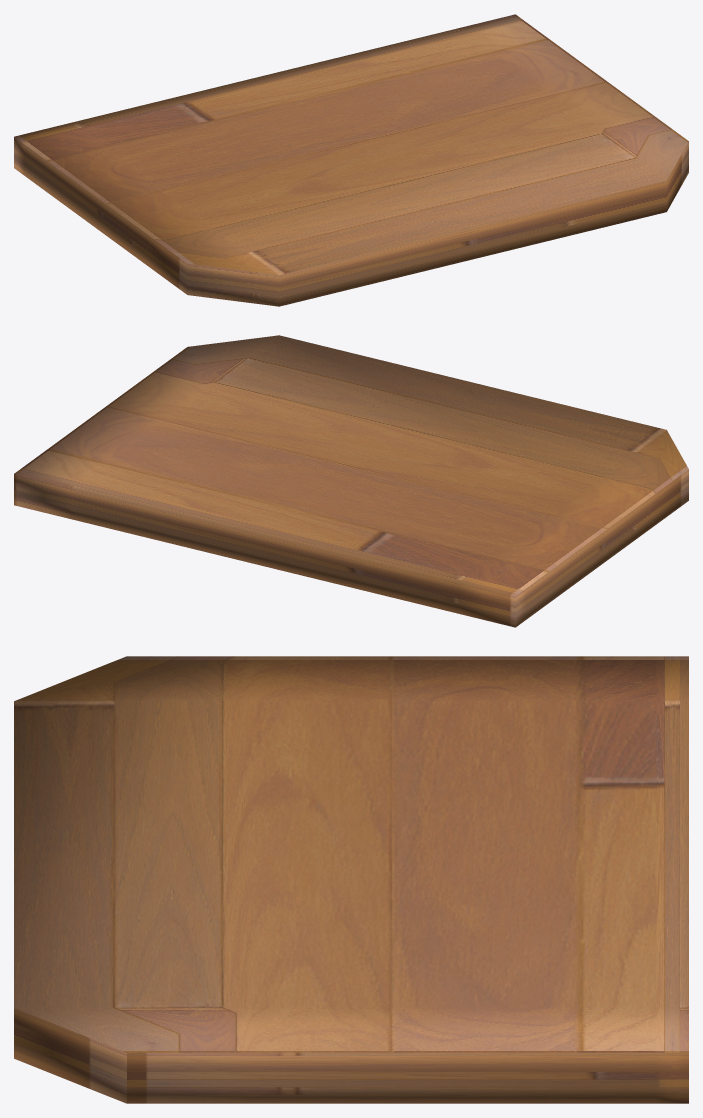
Rendered from wood_deck.glb.
The picture shows the model from 3 angles, top to bottom: view 1: azimuth 30°, elevation 25°; view 2: azimuth 150°, elevation 25°; view 3: azimuth 270°, elevation 25°; orthographic projection. The views are drawn at different scales.
Parts seen in each view (by area): view 1: Wood_deck; view 2: Wood_deck; view 3: Wood_deck.
Part boxes in pixels (x1,y1,x2,y2): Wood_deck: (14, 14, 688, 306); Wood_deck: (14, 335, 688, 627); Wood_deck: (14, 656, 688, 1103).
Size of what is drawn, in the model's own units: 10.08 by 0.6038 by 7.25.
Materials: 1 (1 with a texture image).
